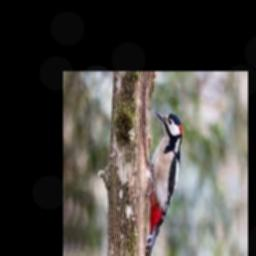Woodpecker: (145, 110, 182, 256)
